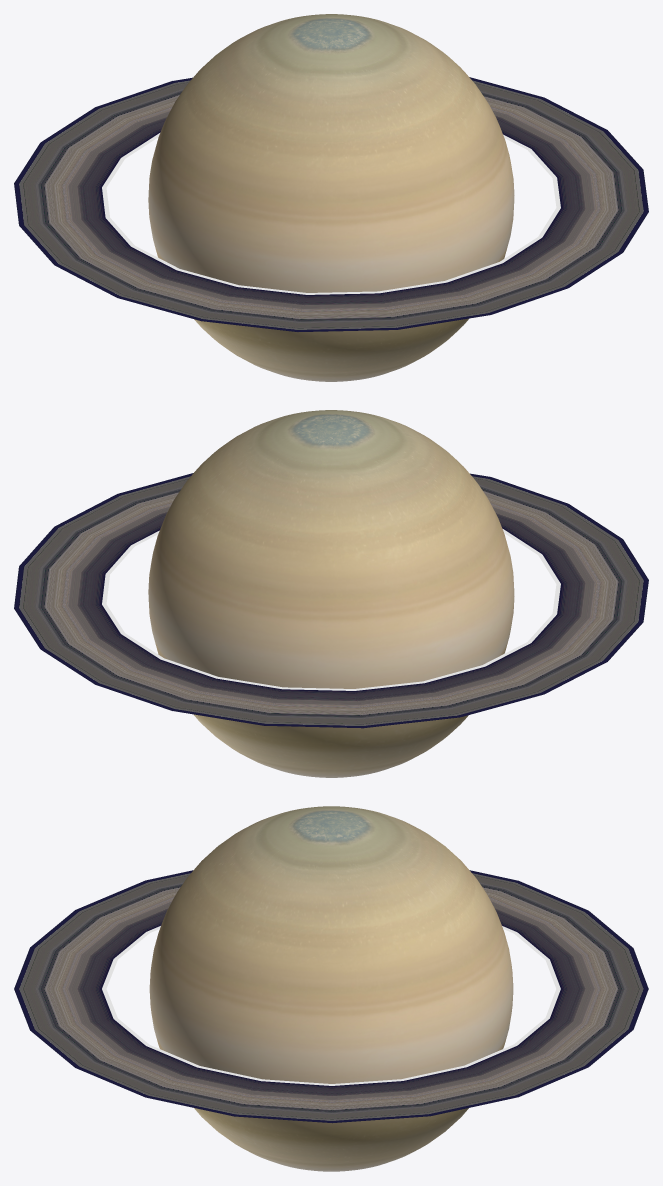
The model's file is saturn.glb.
3 renders of one model, top to bottom at view 1: azimuth 30°, elevation 25°; view 2: azimuth 150°, elevation 25°; view 3: azimuth 270°, elevation 25°, orthographic.
Parts seen in each view (by area): view 1: Saturn, Rings; view 2: Saturn, Rings; view 3: Saturn, Rings.
Part boxes in pixels (x1,y1,x2,y2): Saturn: [148, 14, 514, 381]; Rings: [14, 77, 648, 331]; Saturn: [148, 410, 514, 777]; Rings: [14, 473, 648, 728]; Saturn: [149, 806, 513, 1171]; Rings: [14, 870, 648, 1123].
Bounding box in the file's own units: 3.45 × 2 × 3.45.
Materials: 2 (2 with a texture image).
